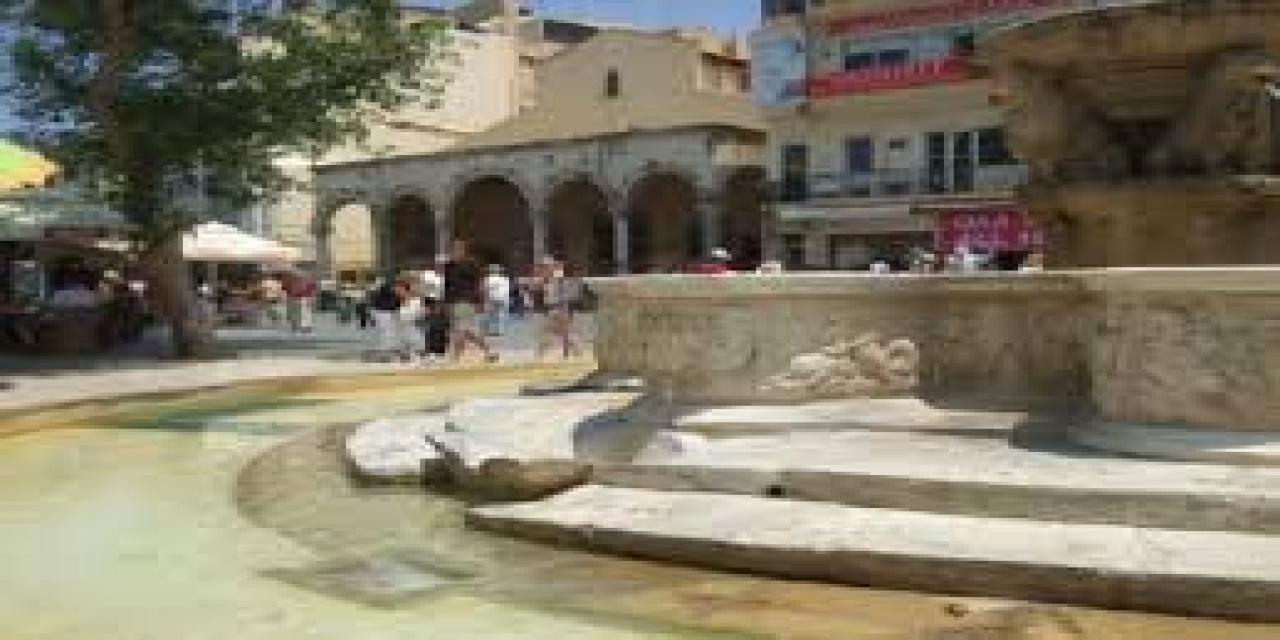Liontaria: (652, 2, 1277, 444)
